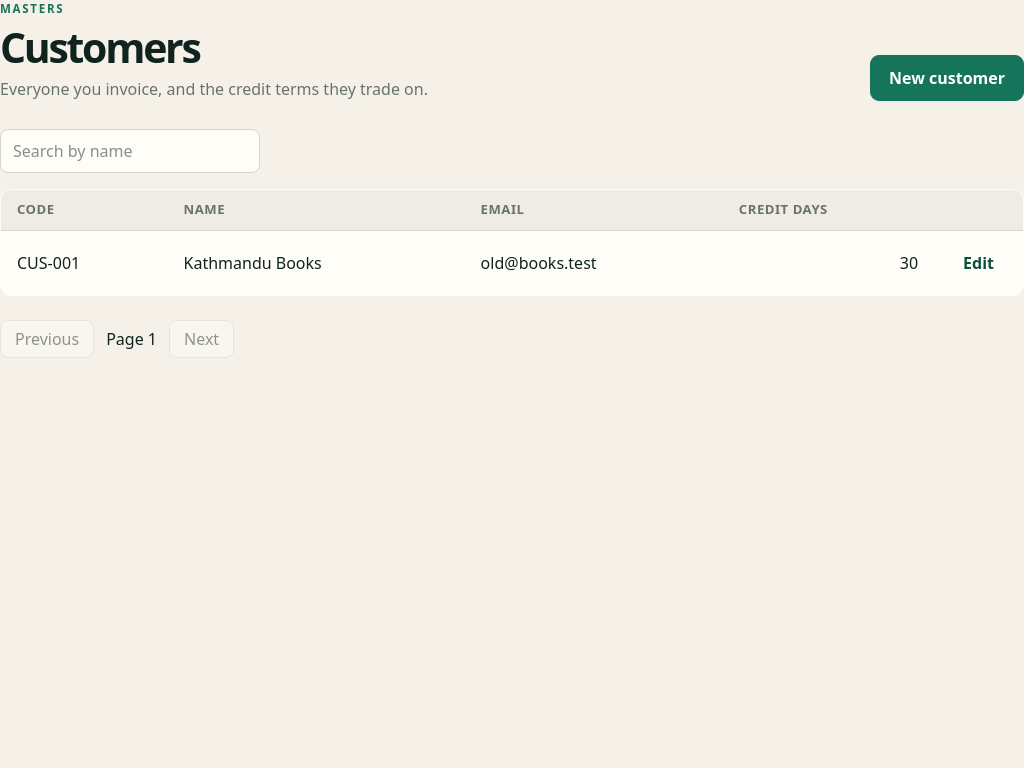
master data pages › edits an existing customer and refreshes the list
Click the button with aria-label "Edit Kathmandu Books" at (979, 263), box [950,241,1007,285]
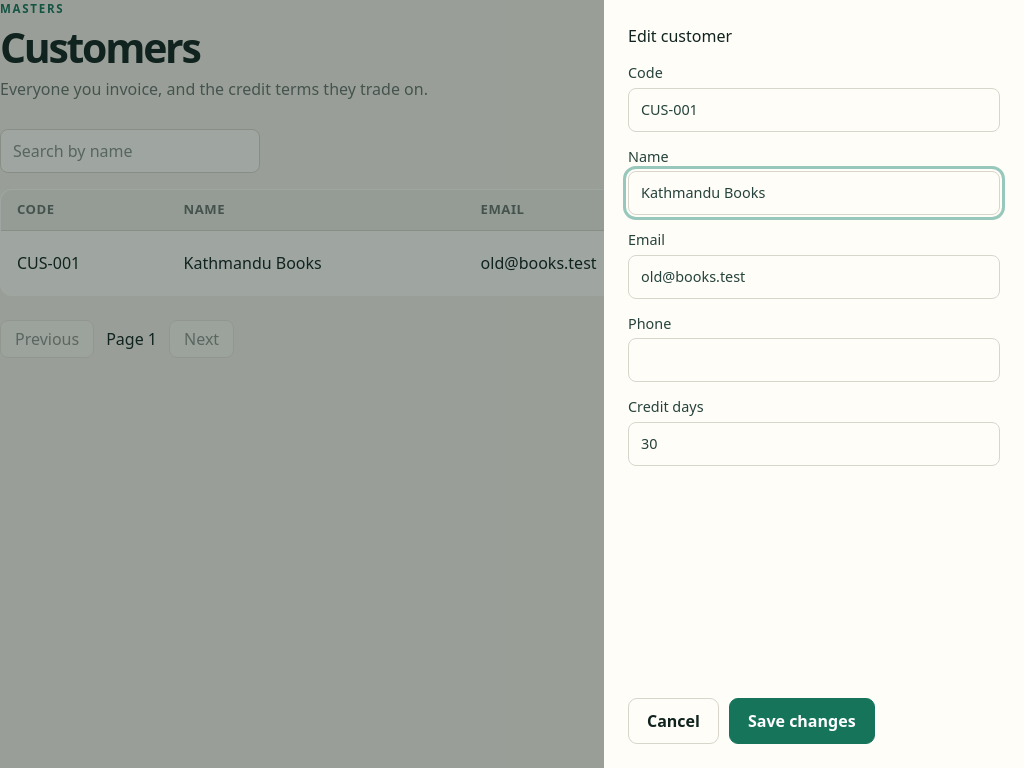
Replace the text in the field labelled "Name" with "Kathmandu Books Pvt. Ltd." at (814, 193), box [628,171,1000,215]
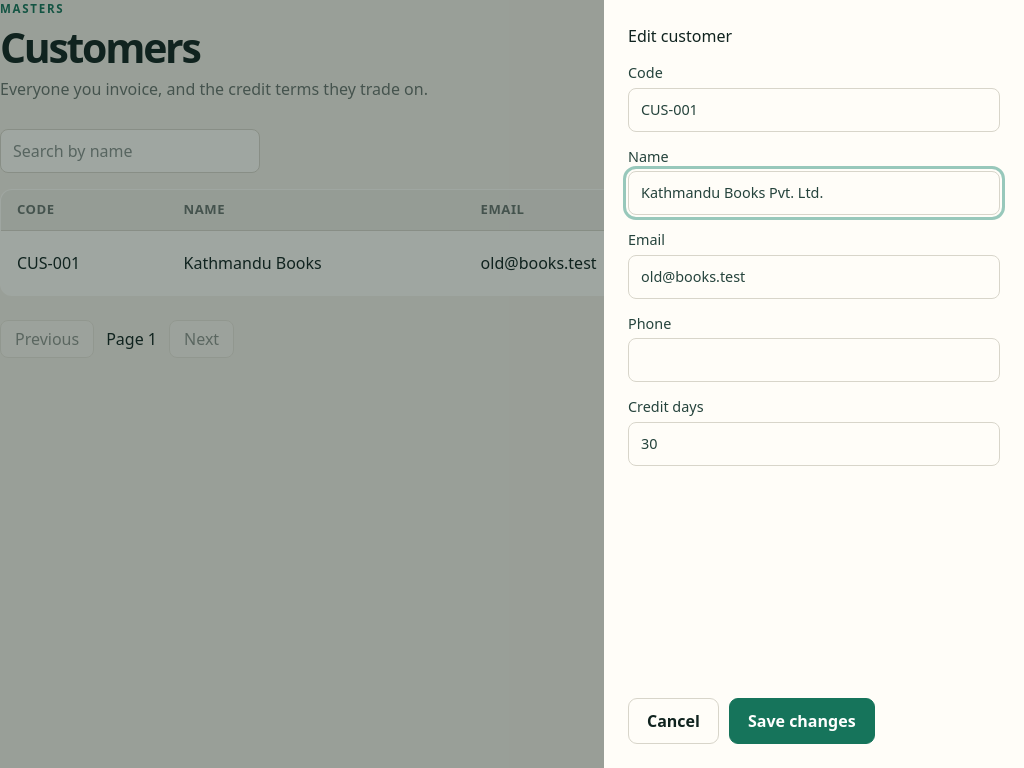
Click the button "Save changes" at (802, 721), box [729,698,875,744]
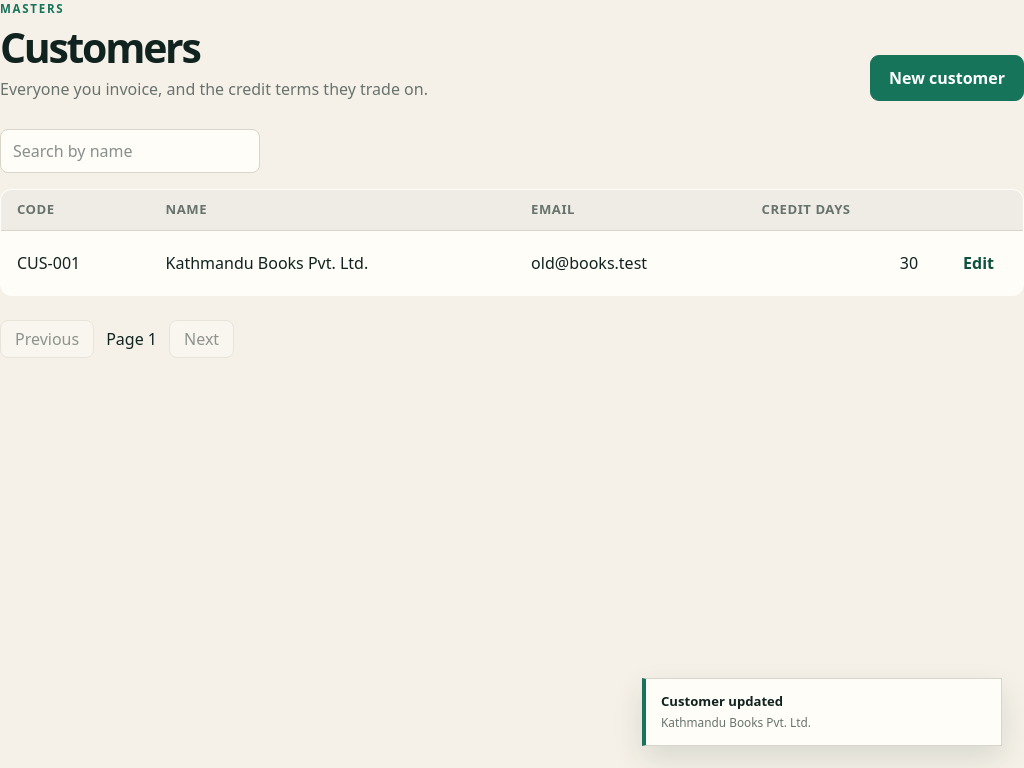
Check: the text "Kathmandu Books Pvt. Ltd." is shown, box [150,230,515,295]
Check: the text "Customer updated" is shown, box [661,692,783,710]
